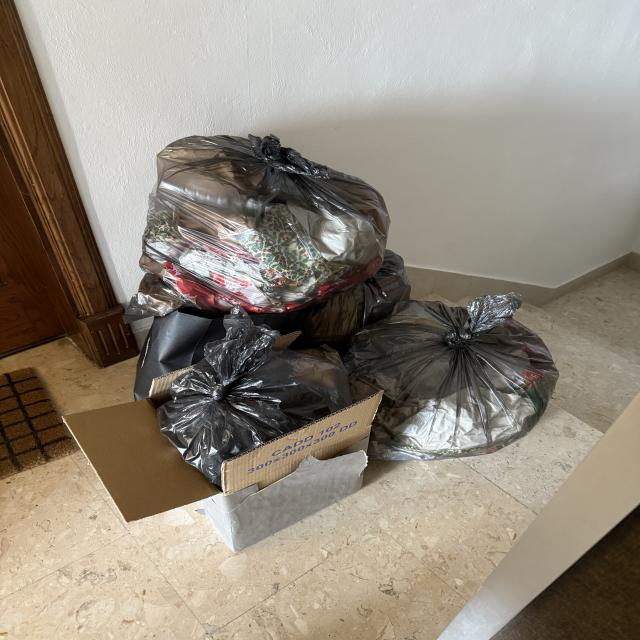Mixed Waste -Black Bags-: (123, 133, 559, 487)
